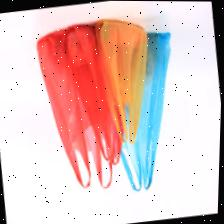plastic: (86, 25, 190, 196), (28, 23, 125, 201), (59, 11, 141, 171), (89, 10, 159, 147)
